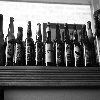beer: (44, 21, 56, 71)
